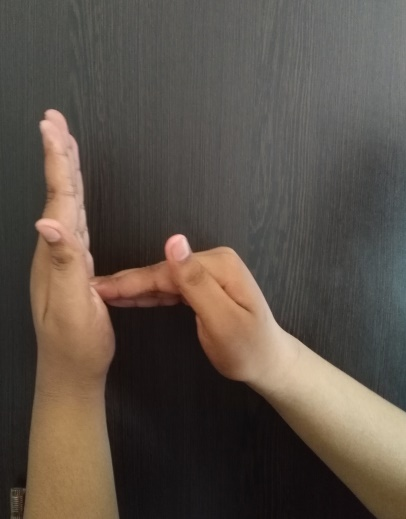ga: (27, 107, 287, 387)
